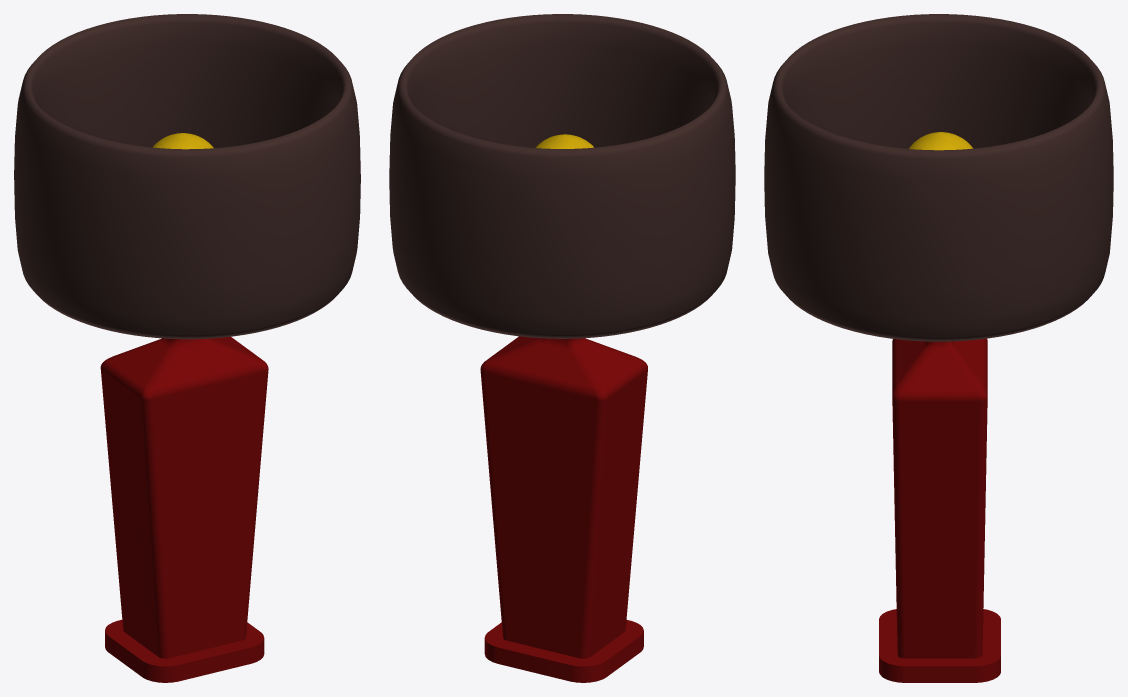
Rendered from LampeSalon2_1.fbx.
3 views of the same model, side by side, from view 1: azimuth 30°, elevation 25°; view 2: azimuth 150°, elevation 25°; view 3: azimuth 270°, elevation 25° (orthographic).
Visible parts, largest first — view 1: pPipe117, pCube2060, pCylinder776; view 2: pPipe117, pCube2060, pCylinder776; view 3: pPipe117, pCube2060, pCylinder776.
Boxes of the visible parts, left/top/right/bottom form: pPipe117: left=14, top=14, right=360, bottom=339; pCube2060: left=100, top=336, right=268, bottom=682; pCylinder776: left=152, top=133, right=213, bottom=149; pPipe117: left=389, top=14, right=735, bottom=338; pCube2060: left=480, top=336, right=647, bottom=682; pCylinder776: left=535, top=134, right=593, bottom=148; pPipe117: left=764, top=14, right=1113, bottom=341; pCube2060: left=879, top=338, right=1000, bottom=682; pCylinder776: left=908, top=132, right=973, bottom=150.
Size of the model in its own units: 31.01 by 56.08 by 31.01.
